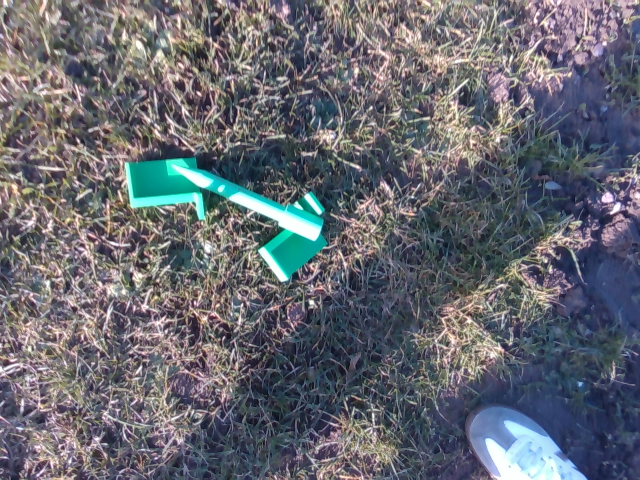Probe: (168, 159, 328, 245)
